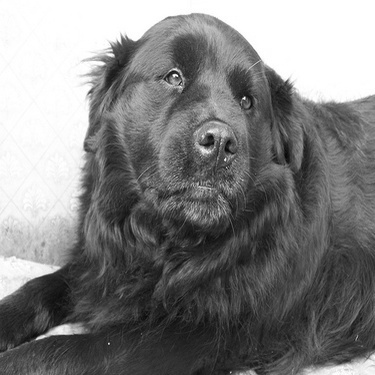dog: (4, 6, 369, 370)
